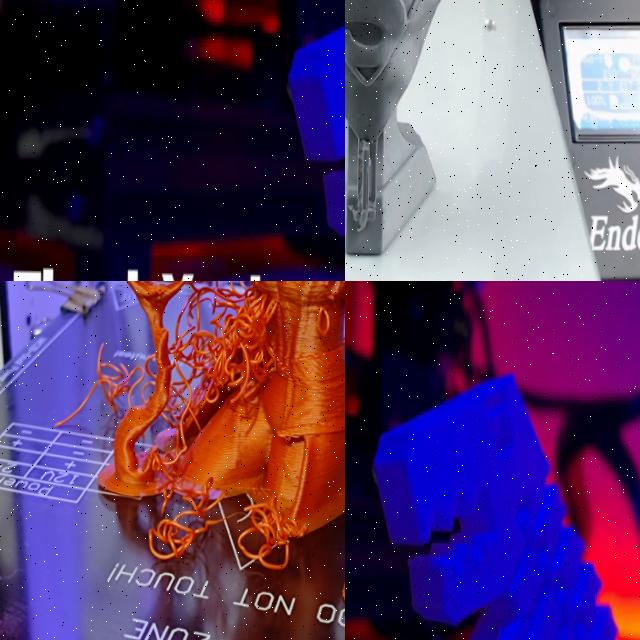spaghetti: (51, 281, 281, 451), (144, 451, 219, 576), (240, 491, 302, 587)
